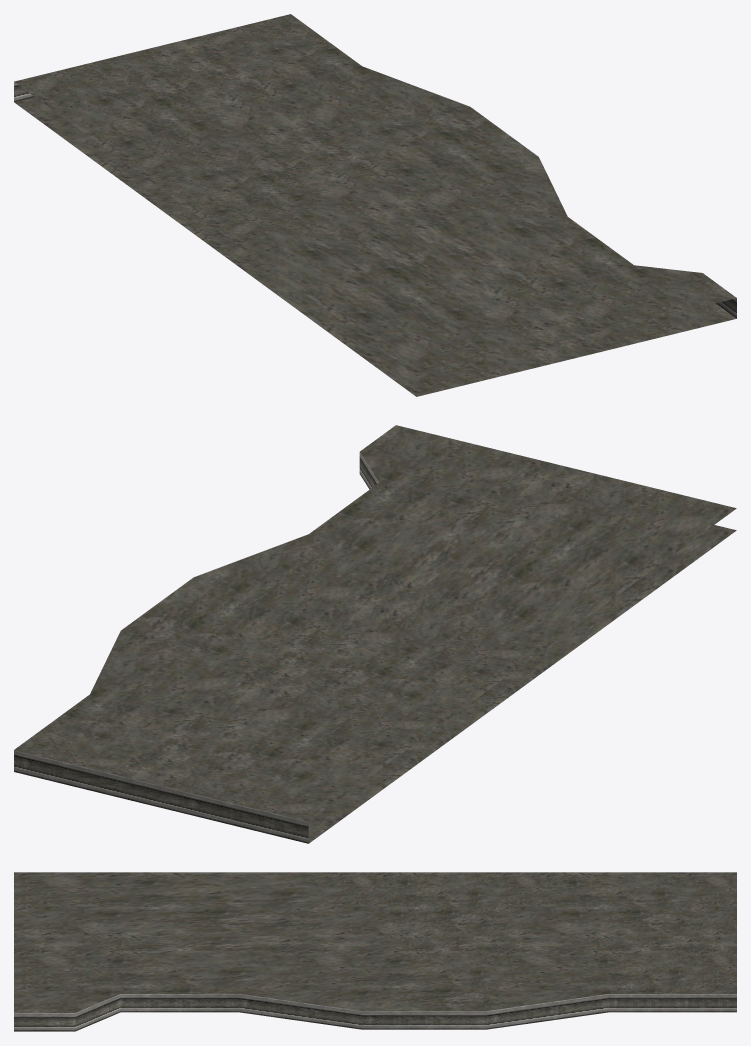
Rendered from DWARF_PALACE_FORGE_UPPER_FLOOR03.fbx.
The picture shows the model from 3 angles, top to bottom: view 1: azimuth 30°, elevation 25°; view 2: azimuth 150°, elevation 25°; view 3: azimuth 270°, elevation 25°; orthographic projection. The views are drawn at different scales.
Visible parts, largest first — view 1: DWARF_PALACE_FORGE_UPPER_FLOOR03; view 2: DWARF_PALACE_FORGE_UPPER_FLOOR03; view 3: DWARF_PALACE_FORGE_UPPER_FLOOR03.
Boxes of the visible parts, x1,y1,x2,y2 form: DWARF_PALACE_FORGE_UPPER_FLOOR03: (14, 14, 736, 396); DWARF_PALACE_FORGE_UPPER_FLOOR03: (14, 425, 736, 843); DWARF_PALACE_FORGE_UPPER_FLOOR03: (14, 872, 736, 1031).
Size of the model in its own units: 81000 by 5000 by 176258.
2 materials, 2 textured.
